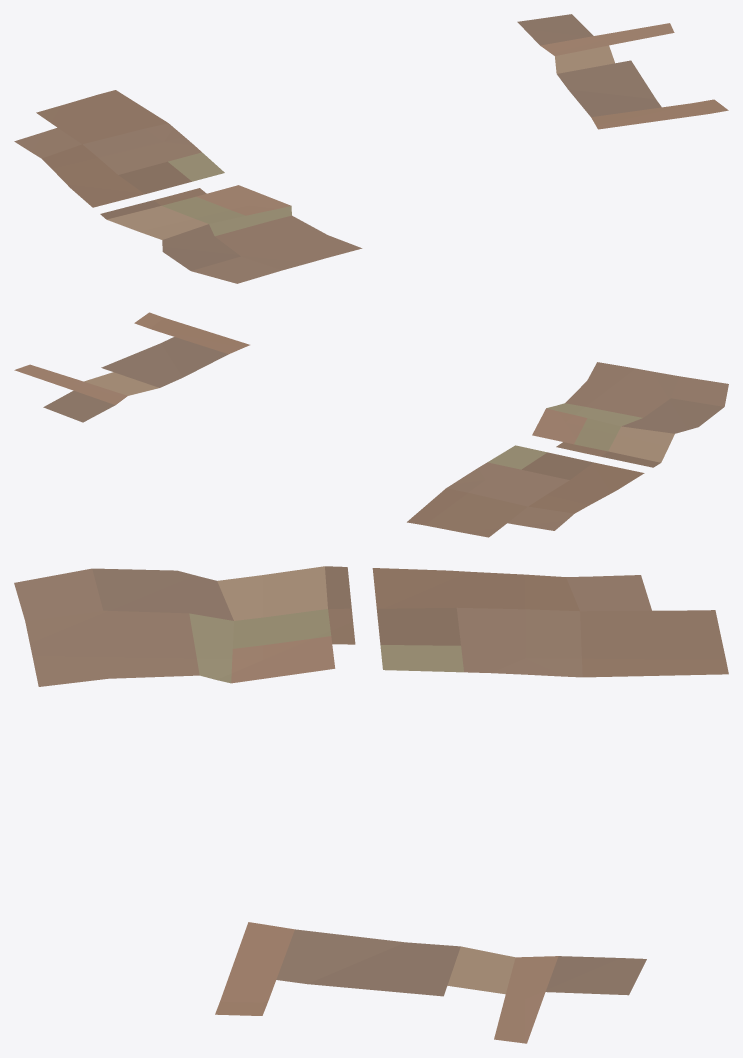
The model's file is farm_27_30_soil.glb.
3 renders of one model, top to bottom at view 1: azimuth 30°, elevation 25°; view 2: azimuth 150°, elevation 25°; view 3: azimuth 270°, elevation 25°, orthographic. The views are drawn at different scales.
Visible parts, largest first — view 1: geometry_0; view 2: geometry_0; view 3: geometry_0.
Part boxes in pixels (<box>): geometry_0: <box>14,14,728,283</box>; geometry_0: <box>14,312,728,537</box>; geometry_0: <box>14,566,728,1043</box>.
Bounding box in the file's own units: 339 × 5.96 × 218.
